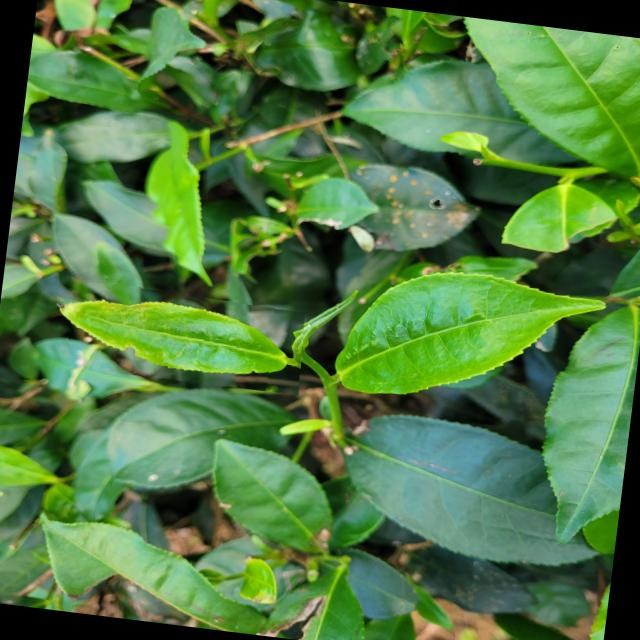Catagory A(1-2 days): (49, 274, 309, 394)
